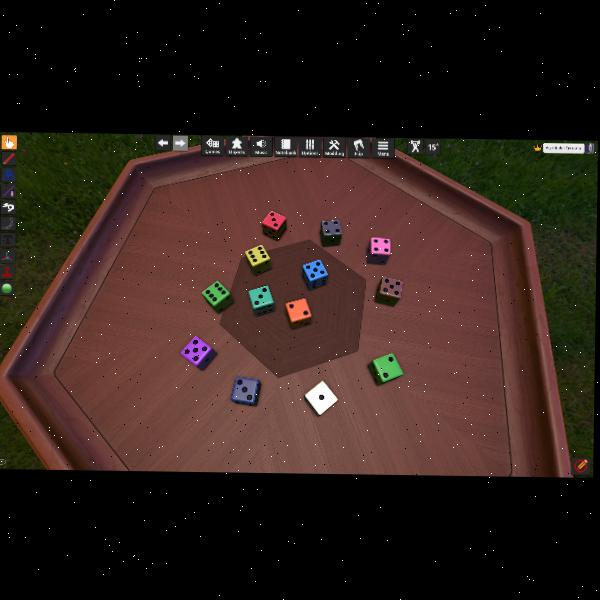d6: (180, 335, 216, 369), (304, 379, 338, 415), (368, 353, 401, 385), (201, 280, 232, 314), (231, 376, 260, 406), (248, 284, 275, 316), (375, 276, 403, 306), (244, 244, 270, 276), (302, 258, 328, 290), (285, 298, 310, 329), (262, 210, 286, 240), (366, 236, 389, 265), (318, 219, 341, 247)
